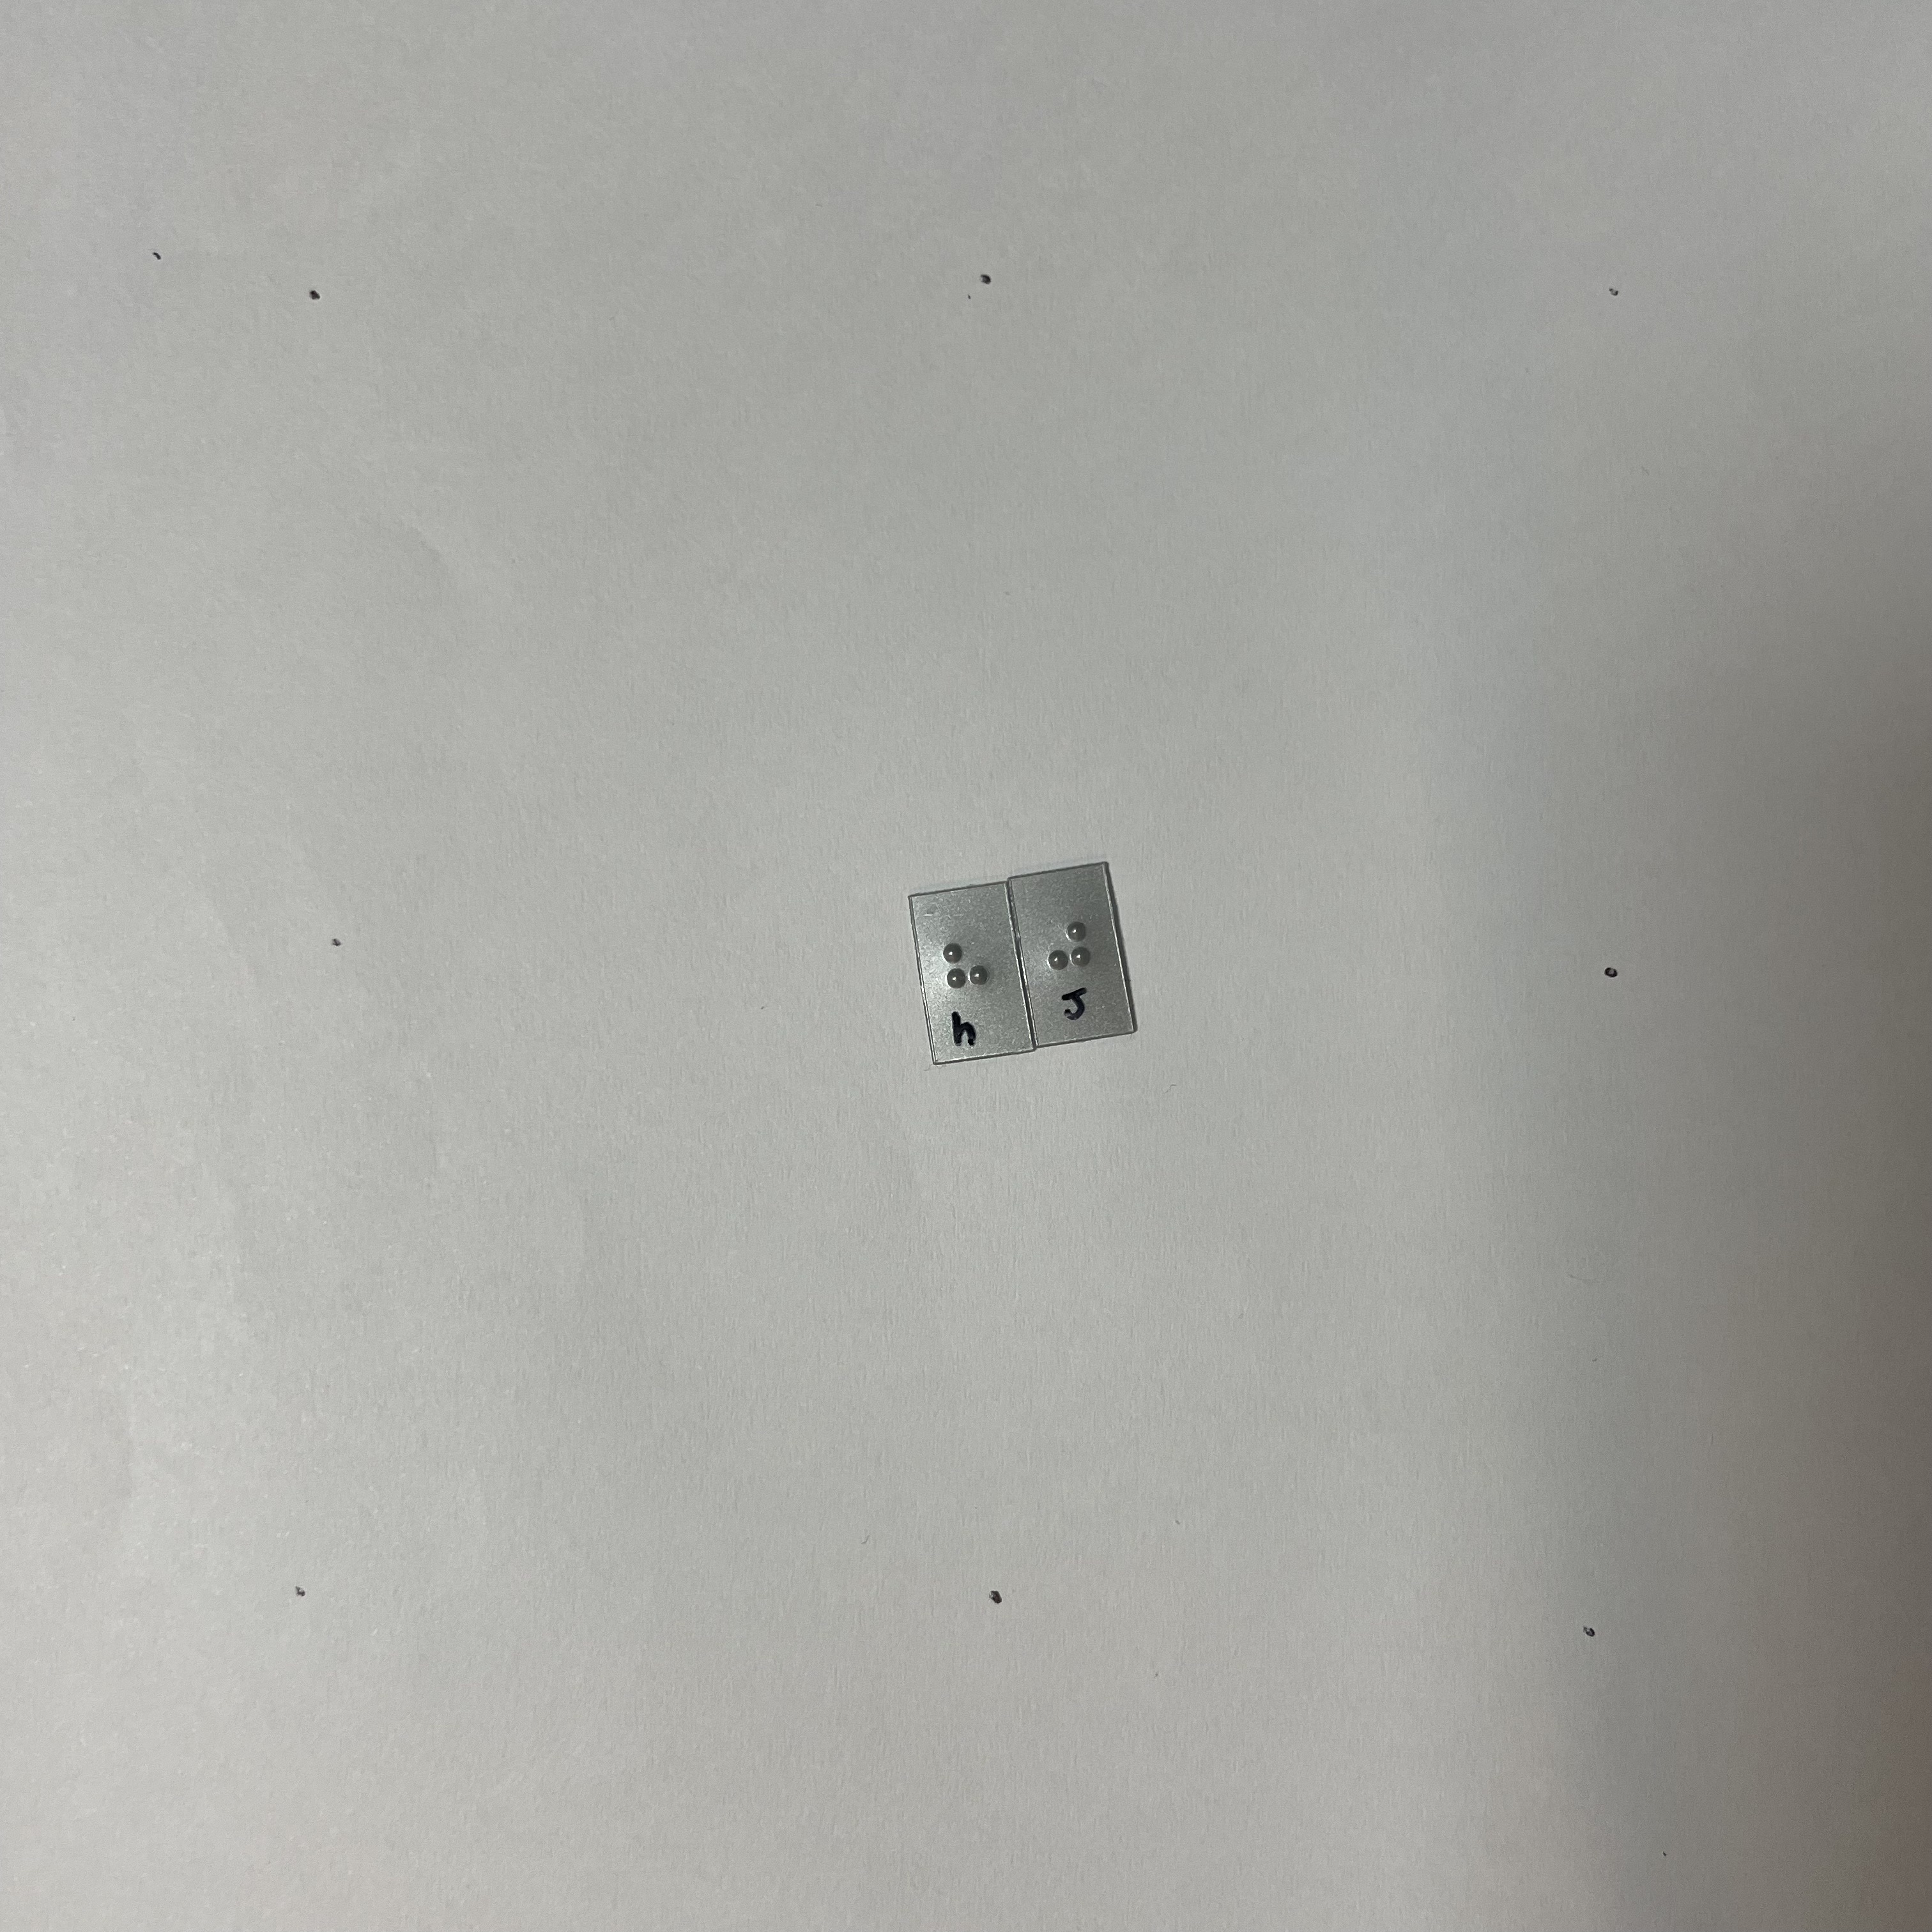h: (937, 930, 999, 1004)
j: (1040, 916, 1107, 989)
